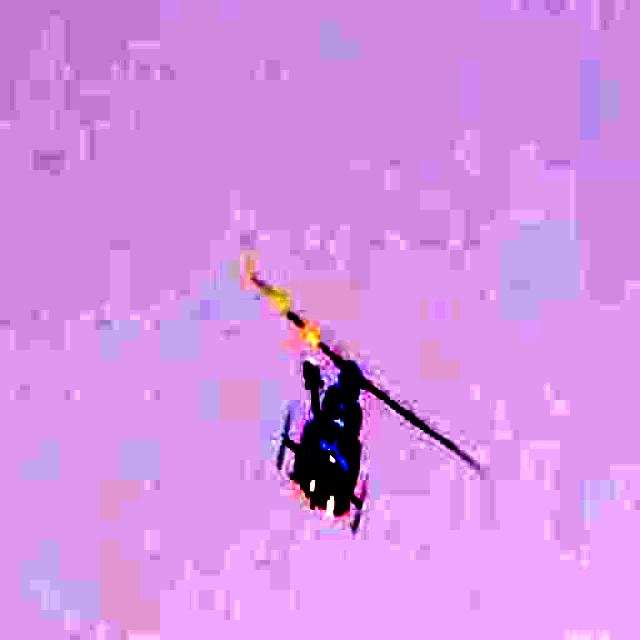drone: (185, 258, 462, 536)
